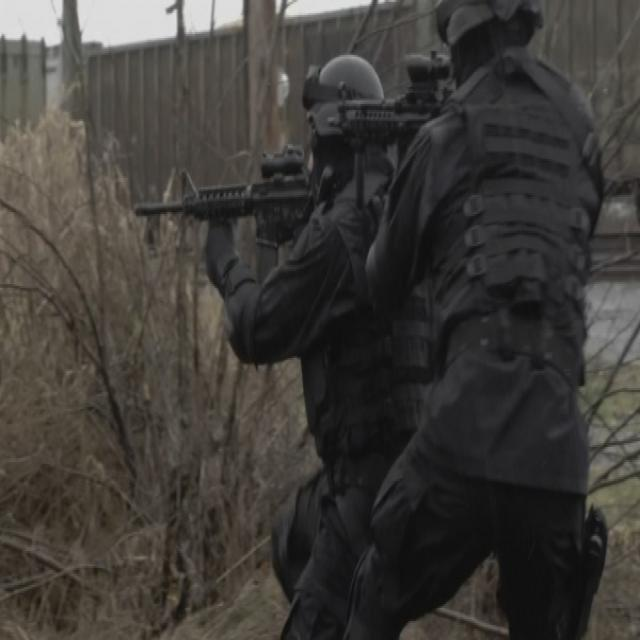rifle: (130, 140, 318, 260)
